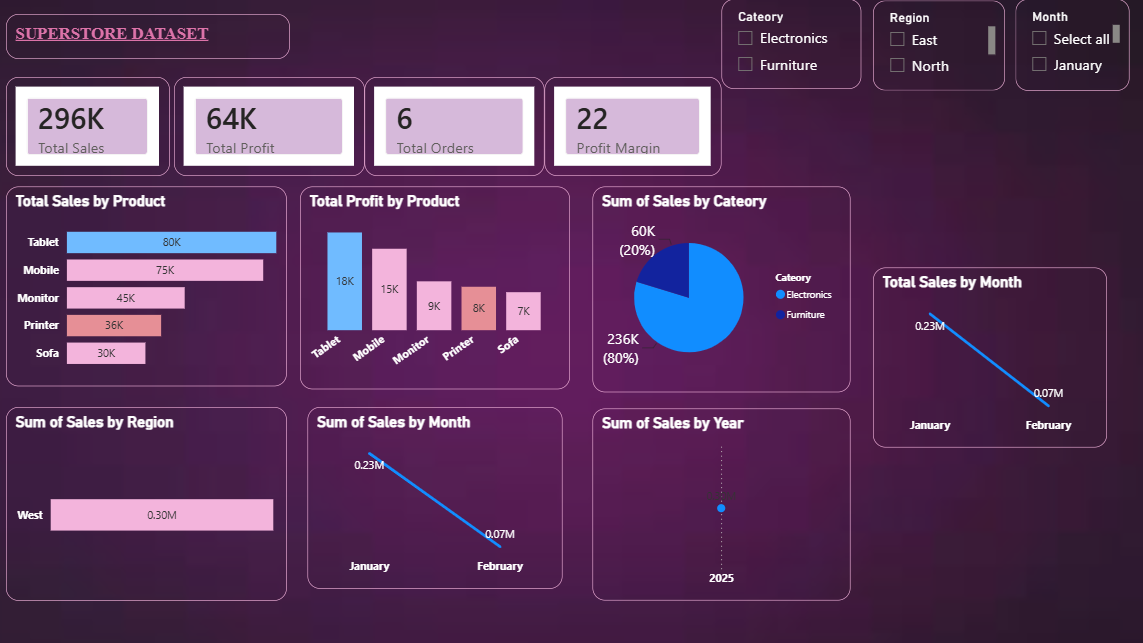

Layout of this report page (visuals, bound fields, positions):
{"tool":"powerbi","page":{"name":"Page 1","canvas":[1280,720],"ordinal":0},"visuals":[{"type":"cardVisual","fields":{"Data":["Sales_Data_Dashboard_Project.Total Sales"]},"box":[13.3,86.7,181.7,110],"z":0},{"type":"cardVisual","fields":{"Data":["Sales_Data_Dashboard_Project.Total Profit"]},"box":[200,86.7,211.7,110],"z":1000},{"type":"cardVisual","fields":{"Data":["Sales_Data_Dashboard_Project.Total Orders"]},"box":[411.7,86.7,200,110],"z":2000},{"type":"cardVisual","fields":{"Data":["Sales_Data_Dashboard_Project.Profit Margin"]},"box":[611.7,86.7,196.7,110],"z":3000},{"type":"clusteredBarChart","fields":{"Category":["Sales_Data_Dashboard_Project.Product "],"Y":["Sales_Data_Dashboard_Project.Total Sales"]},"box":[13.3,208.3,311.7,221.7],"z":5000},{"type":"clusteredColumnChart","fields":{"Category":["Sales_Data_Dashboard_Project.Product "],"Y":["Sales_Data_Dashboard_Project.Total Profit"]},"box":[340,208.3,300,225],"z":6000},{"type":"pieChart","fields":{"Category":["Sales_Data_Dashboard_Project.Cateory"],"Y":["Sum(Sales_Data_Dashboard_Project.Sales)"]},"box":[665,208.3,286.7,228.3],"z":7000},{"type":"barChart","fields":{"Category":["Sales_Data_Dashboard_Project.Region"],"Y":["Sum(Sales_Data_Dashboard_Project.Sales)"]},"box":[13.3,453.3,311.7,215],"z":8000},{"type":"lineChart","fields":{"Category":["Sales_Data_Dashboard_Project.Order Date.Variation.Date Hierarchy.Month"],"Y":["Sum(Sales_Data_Dashboard_Project.Sales)"]},"box":[348.3,453.3,283.3,201.7],"z":9000},{"type":"lineChart","fields":{"Category":["Sales_Data_Dashboard_Project.Order Date.Variation.Date Hierarchy.Year"],"Y":["Sum(Sales_Data_Dashboard_Project.Sales)"]},"box":[665,455,286.7,213.3],"z":10000},{"type":"slicer","fields":{"Values":["Sales_Data_Dashboard_Project.Cateory"]},"box":[808.3,0,155,100],"z":11000},{"type":"slicer","fields":{"Values":["Sales_Data_Dashboard_Project.Region"]},"box":[976.7,1.7,146.7,100],"z":12000},{"type":"slicer","fields":{"Values":["Sales_Data_Dashboard_Project.Order Date.Variation.Date Hierarchy.Month"]},"box":[1135,0,126.7,101.7],"z":13000},{"type":"lineChart","fields":{"Category":["Sales_Data_Dashboard_Project.Order Date.Variation.Date Hierarchy.Month"],"Y":["Sales_Data_Dashboard_Project.Total Sales"]},"box":[976.7,298.3,260,200],"z":14000},{"type":"textbox","box":[13.3,16.7,315,50],"z":15000}]}

Visuals, with their boxes in screenshot pixels (x1, y1, x2, y2), scaled from the page's 1280x720 canvas onto the 1143x643 screenshot:
cardVisual - Sales_Data_Dashboard_Project.Total Sales: (left=12, top=77, right=174, bottom=176)
cardVisual - Sales_Data_Dashboard_Project.Total Profit: (left=179, top=77, right=368, bottom=176)
cardVisual - Sales_Data_Dashboard_Project.Total Orders: (left=368, top=77, right=546, bottom=176)
cardVisual - Sales_Data_Dashboard_Project.Profit Margin: (left=546, top=77, right=722, bottom=176)
clusteredBarChart - Sales_Data_Dashboard_Project.Product  x Sales_Data_Dashboard_Project.Total Sales: (left=12, top=186, right=290, bottom=384)
clusteredColumnChart - Sales_Data_Dashboard_Project.Product  x Sales_Data_Dashboard_Project.Total Profit: (left=304, top=186, right=572, bottom=387)
pieChart - Sales_Data_Dashboard_Project.Cateory x Sum(Sales_Data_Dashboard_Project.Sales): (left=594, top=186, right=850, bottom=390)
barChart - Sales_Data_Dashboard_Project.Region x Sum(Sales_Data_Dashboard_Project.Sales): (left=12, top=405, right=290, bottom=597)
lineChart - Sales_Data_Dashboard_Project.Order Date.Variation.Date Hierarchy.Month x Sum(Sales_Data_Dashboard_Project.Sales): (left=311, top=405, right=564, bottom=585)
lineChart - Sales_Data_Dashboard_Project.Order Date.Variation.Date Hierarchy.Year x Sum(Sales_Data_Dashboard_Project.Sales): (left=594, top=406, right=850, bottom=597)
slicer - Sales_Data_Dashboard_Project.Cateory: (left=722, top=0, right=860, bottom=89)
slicer - Sales_Data_Dashboard_Project.Region: (left=872, top=2, right=1003, bottom=91)
slicer - Sales_Data_Dashboard_Project.Order Date.Variation.Date Hierarchy.Month: (left=1014, top=0, right=1127, bottom=91)
lineChart - Sales_Data_Dashboard_Project.Order Date.Variation.Date Hierarchy.Month x Sales_Data_Dashboard_Project.Total Sales: (left=872, top=266, right=1104, bottom=445)
textbox: (left=12, top=15, right=293, bottom=60)
